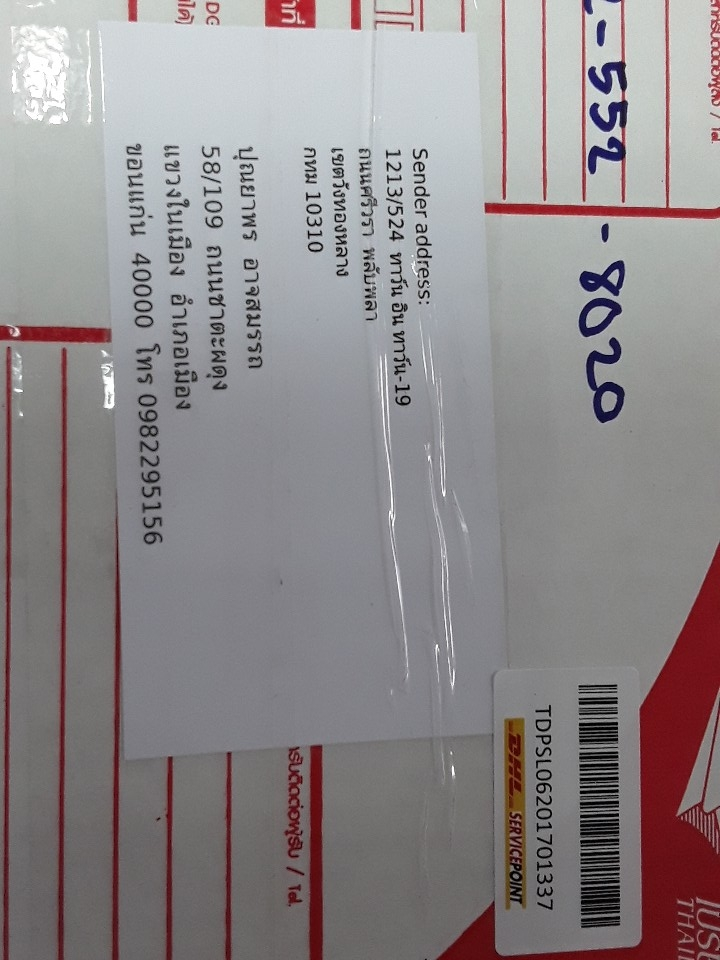txt: (119, 137, 268, 556), (292, 140, 438, 432)
